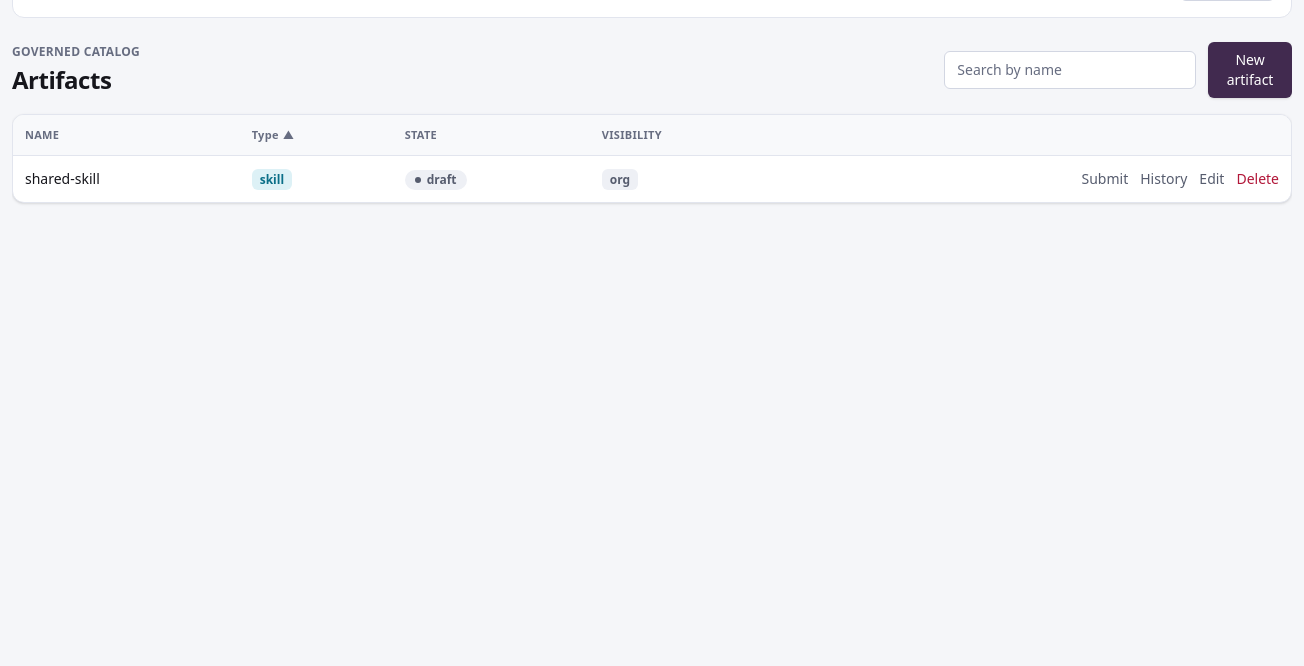
switching an org artifact back to role warns how many grants revive, and for which roles
This screenshot has width=1304, height=666.
Click the button with aria-label "edit shared-skill".
click(1212, 179)  # box [1199,169,1224,189]
(page scrolled)
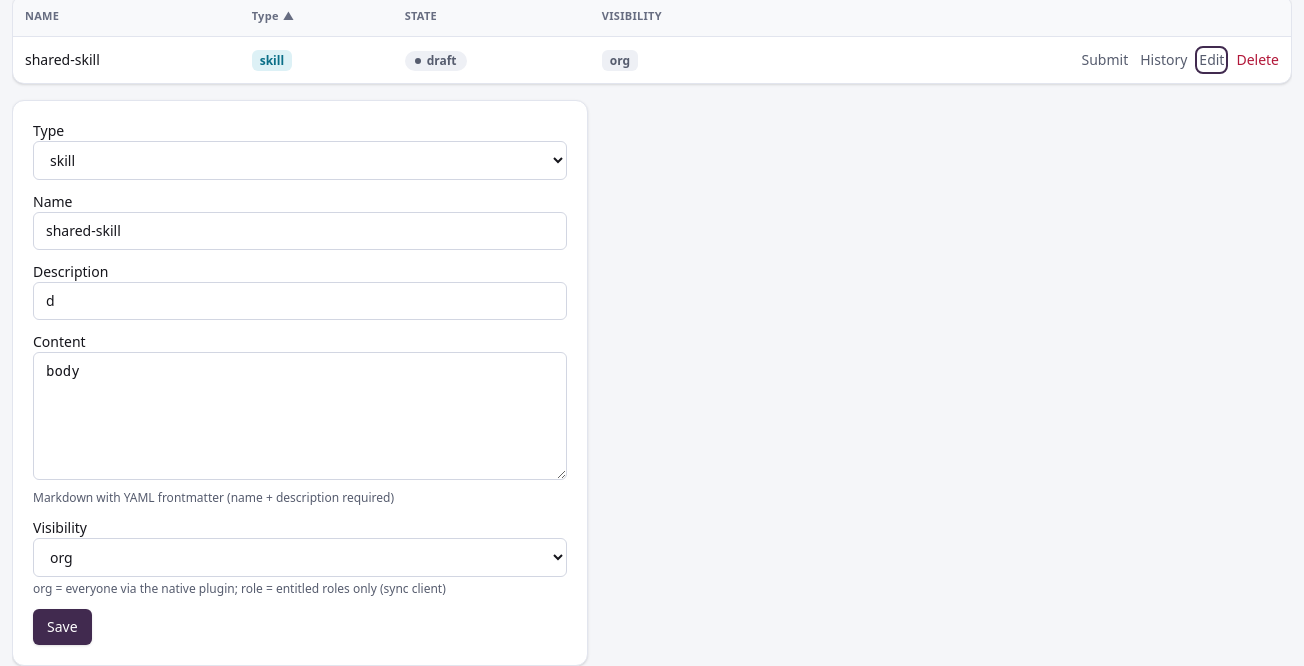
Select "role" in the dropdown labelled "Visibility" at x=300, y=557, box [33,538,567,577]
(page scrolled)
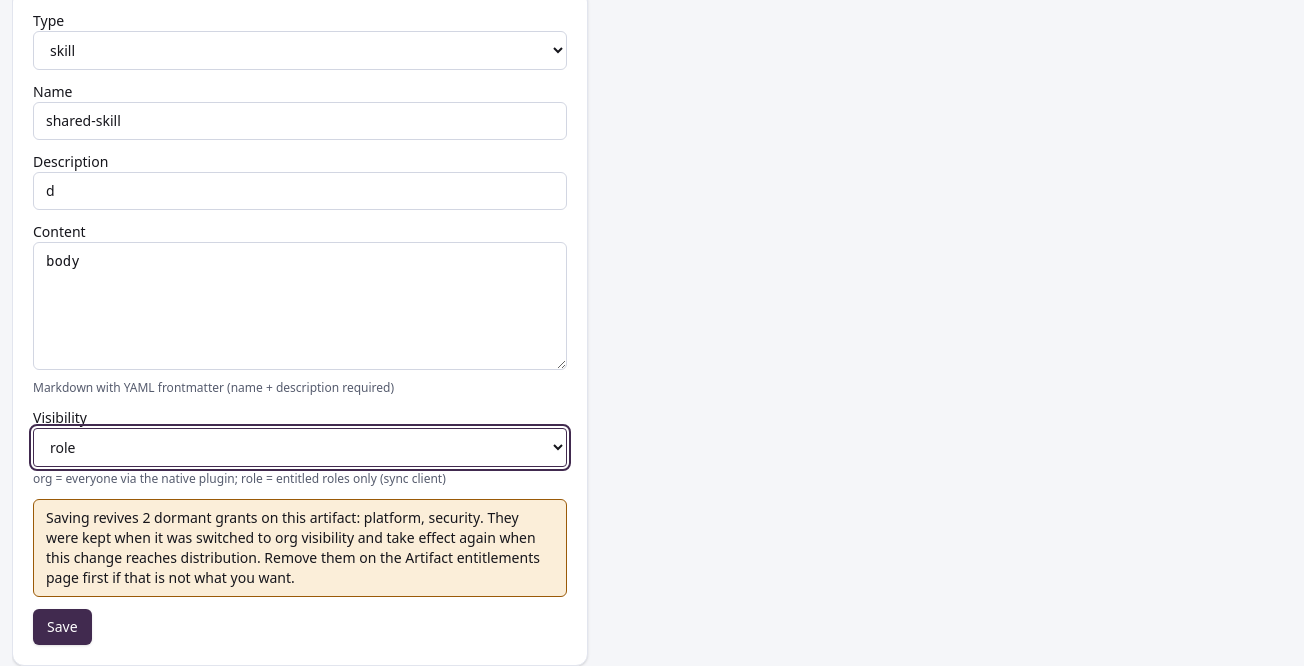
Expected: the message shows "2 dormant grants", [33,499,567,597]
Expected: the message shows "platform, security", [364,508,480,527]
